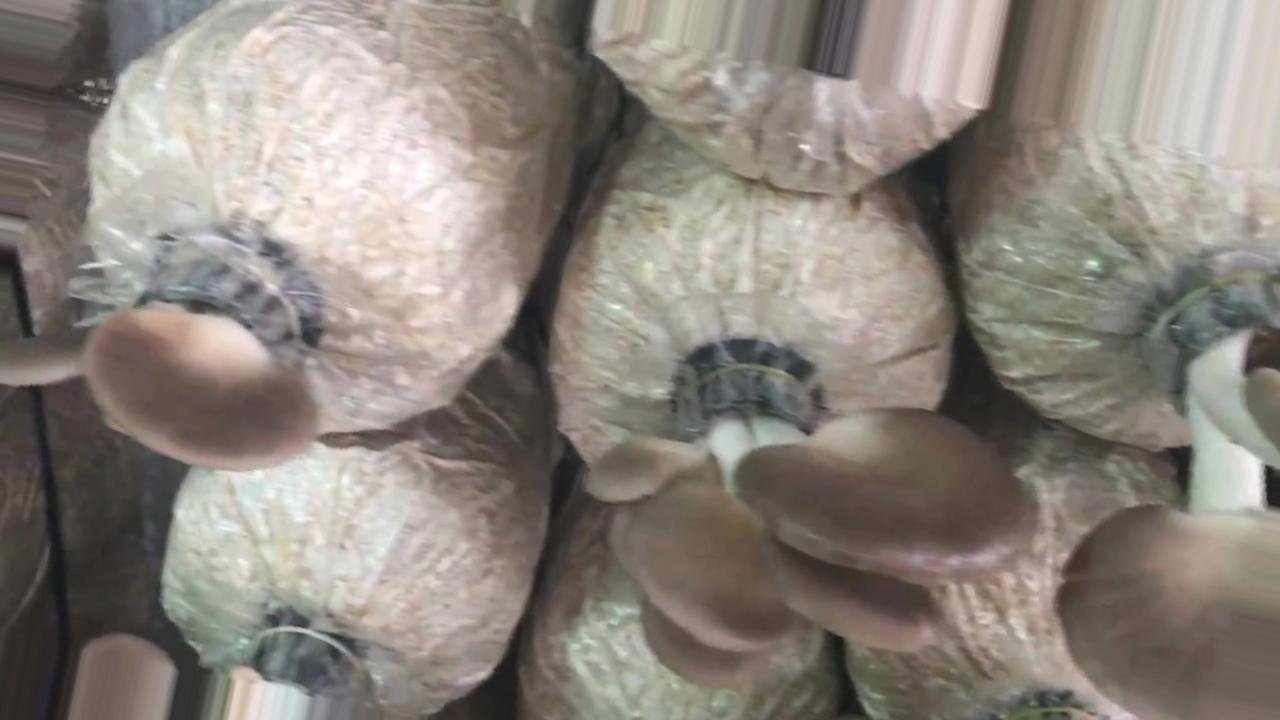nam: (582, 339, 1027, 688), (1055, 264, 1279, 720), (80, 249, 334, 473)
